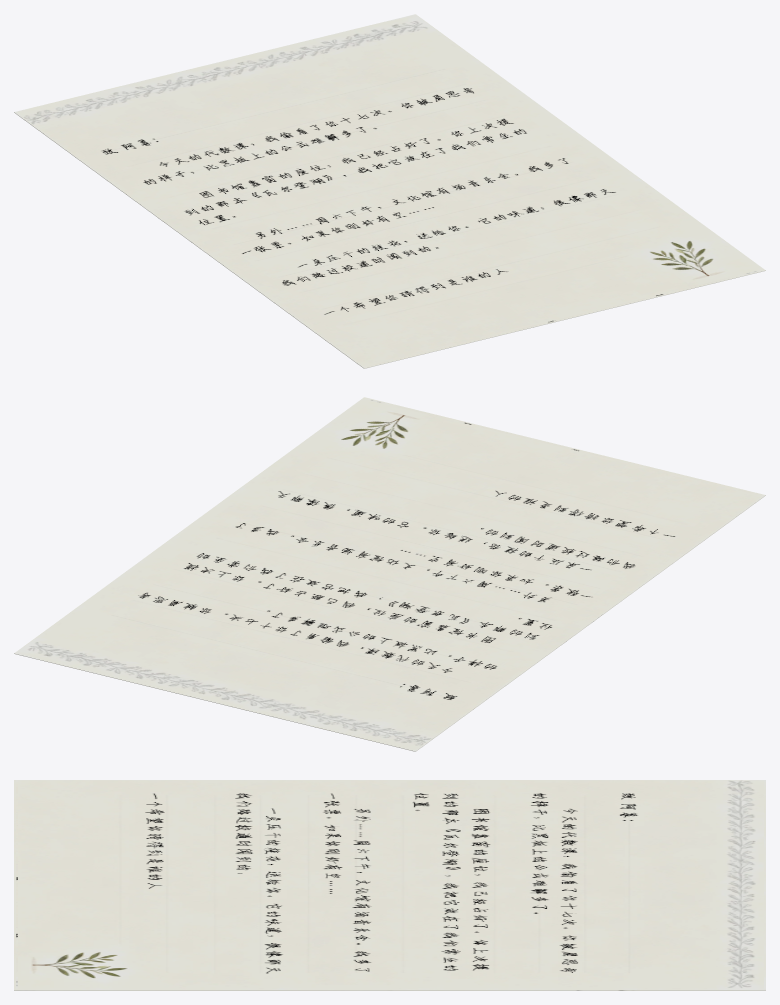
Rendered from 修复版信纸.fbx.
3 views of the same model, one above another, from view 1: azimuth 30°, elevation 25°; view 2: azimuth 150°, elevation 25°; view 3: azimuth 270°, elevation 25° (orthographic). The views are drawn at different scales.
Parts seen in each view (by area): view 1: gift-card-001-a; view 2: gift-card-001-a; view 3: gift-card-001-a.
Boxes of the visible parts, <box> form: gift-card-001-a: <box>14,14,765,368</box>; gift-card-001-a: <box>14,397,765,751</box>; gift-card-001-a: <box>14,780,765,990</box>.
Size of the model in its own units: 12.43 by 0.01 by 18.76.
Materials: 1 (1 with a texture image).
